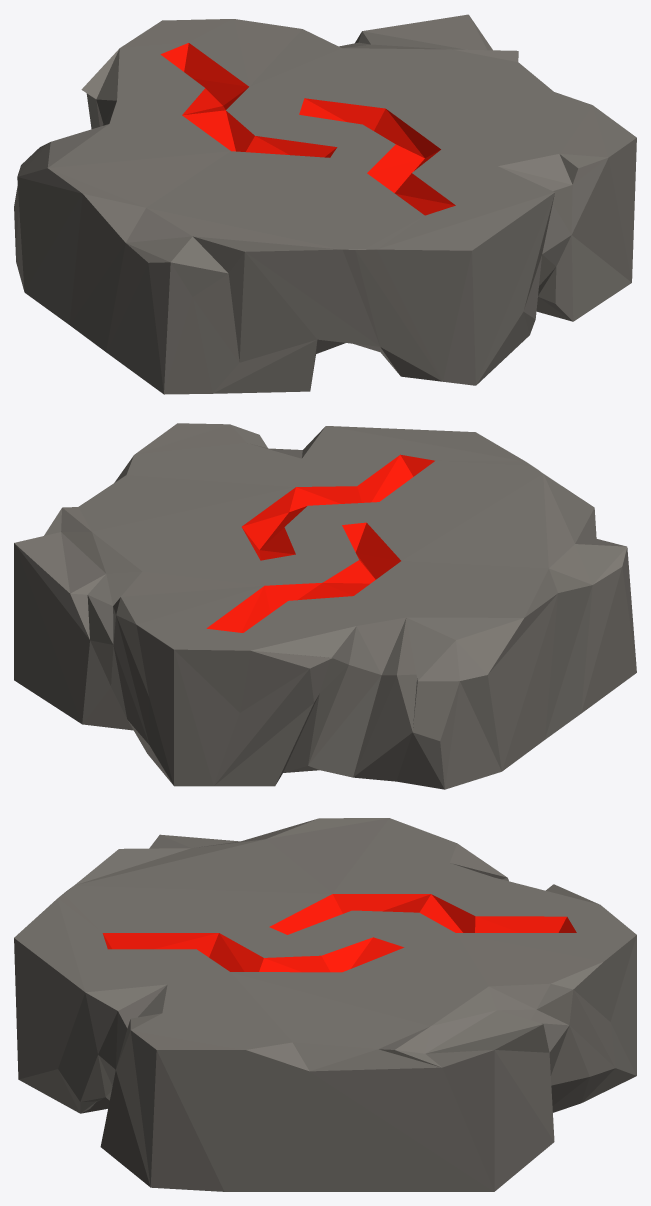
File: SM_Env_Rune_Rounded_05.fbx
3 views of the same model, one above another, from view 1: azimuth 30°, elevation 25°; view 2: azimuth 150°, elevation 25°; view 3: azimuth 270°, elevation 25° (orthographic). The views are drawn at different scales.
Visible parts, largest first — view 1: SM_Env_Rune_Rounded_05; view 2: SM_Env_Rune_Rounded_05; view 3: SM_Env_Rune_Rounded_05.
Boxes of the visible parts, x1,y1,x2,y2 form: SM_Env_Rune_Rounded_05: (14, 14, 636, 394); SM_Env_Rune_Rounded_05: (14, 423, 636, 789); SM_Env_Rune_Rounded_05: (14, 818, 636, 1191).
Size of the model in its own units: 0.9593 by 0.2744 by 1.09.
